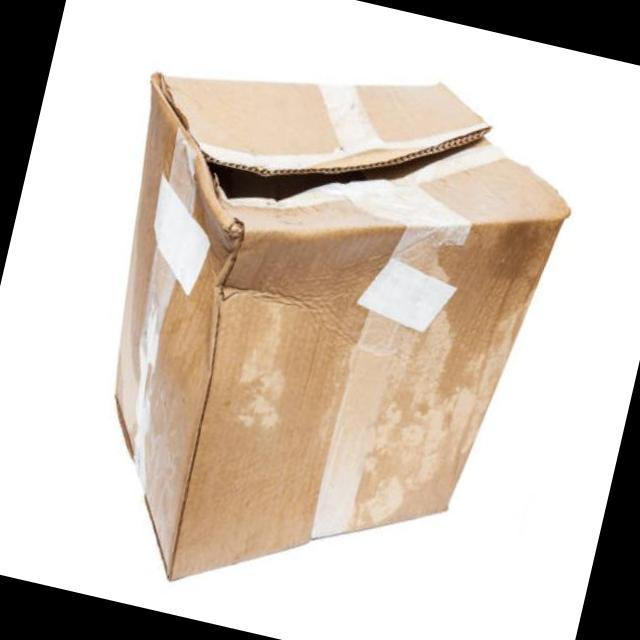box: (212, 215, 483, 598), (17, 285, 228, 625), (165, 1, 426, 247), (196, 453, 336, 636)
